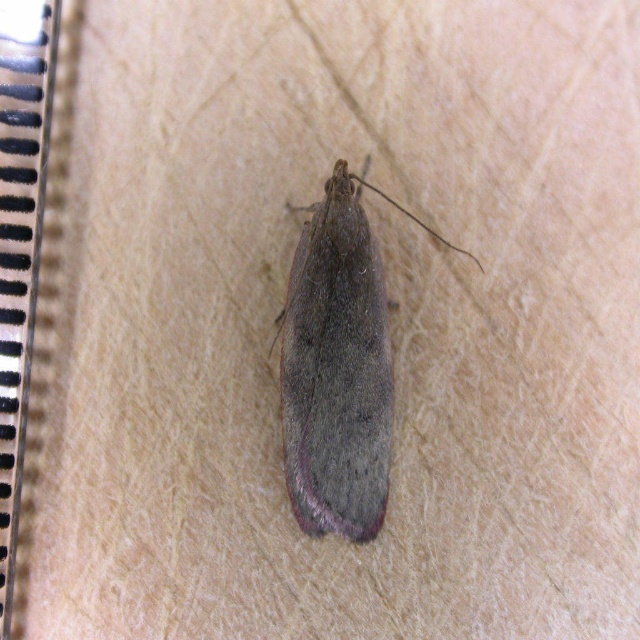Moths and butterflies: (269, 146, 487, 549)
